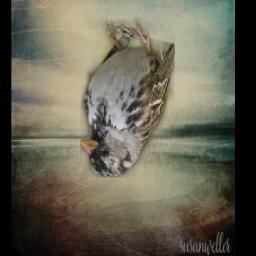Sparrow: (80, 18, 175, 177)
